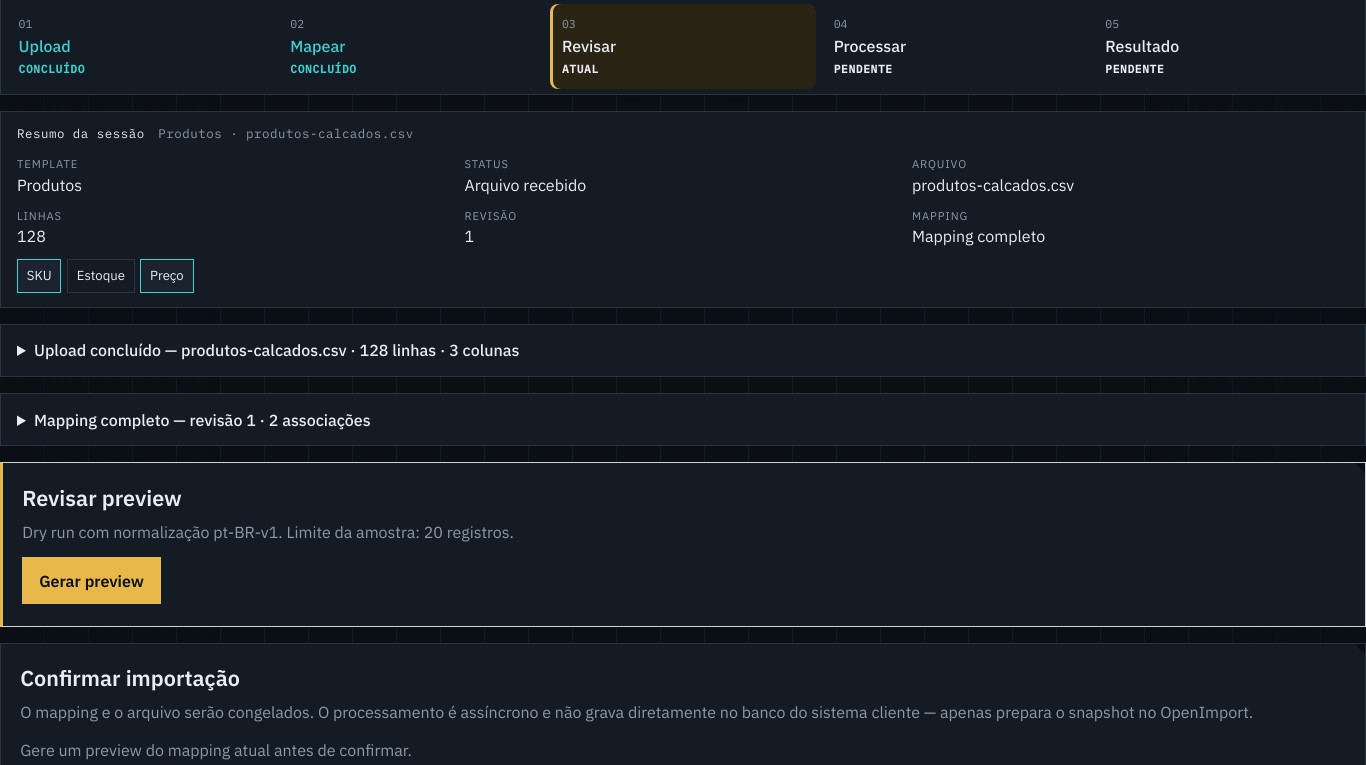
Test: import flow mutations › runs preview and shows invalid rows without treating them as request failure
The width and height of the screenshot is (1366, 765).
Step 1. Click the button "Gerar preview" → (92,581), box [22,557,161,604]
(page scrolled)
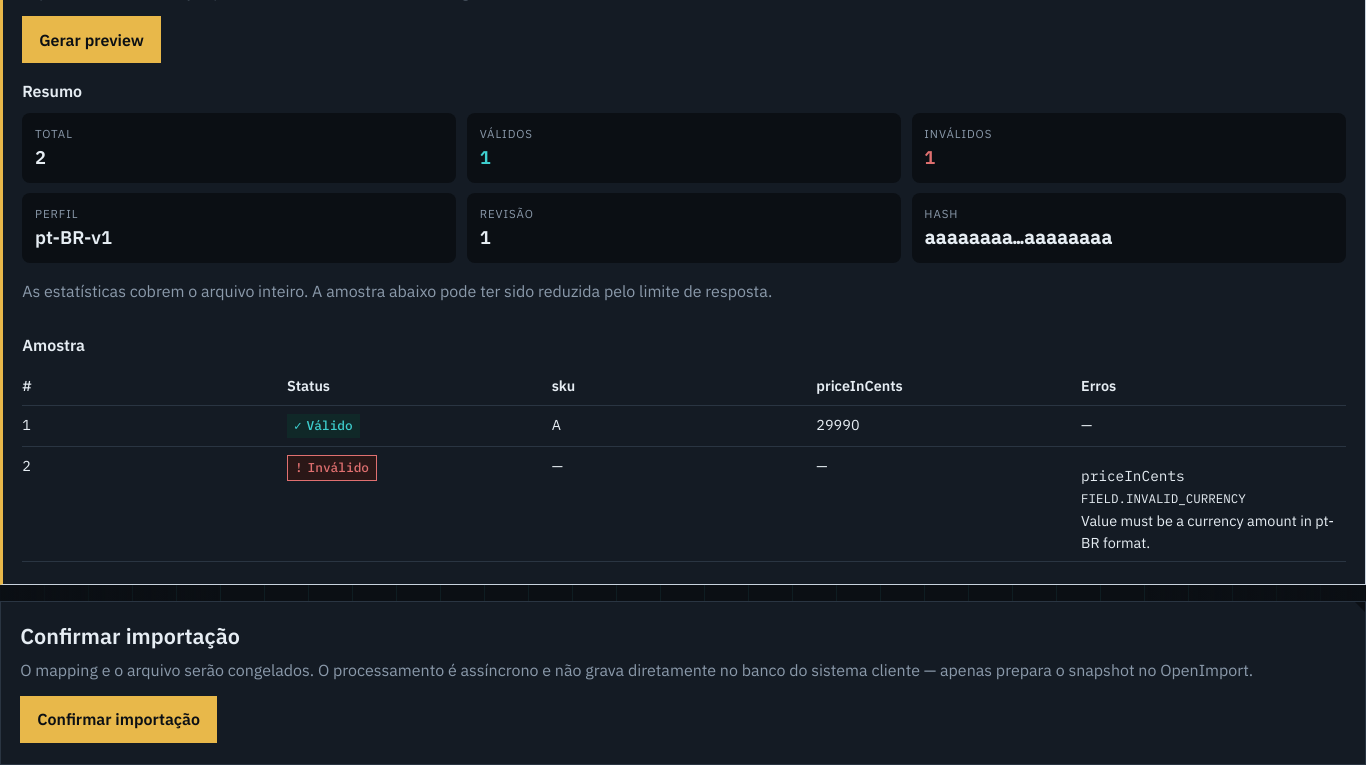
Expected: the text "29990" is shown, [816,406,1081,446]
Expected: the text "Inválidos" is shown, [924,126,992,140]
Expected: the text "estatísticas cobrem o arquivo inteiro" is shown, [22,281,772,301]
